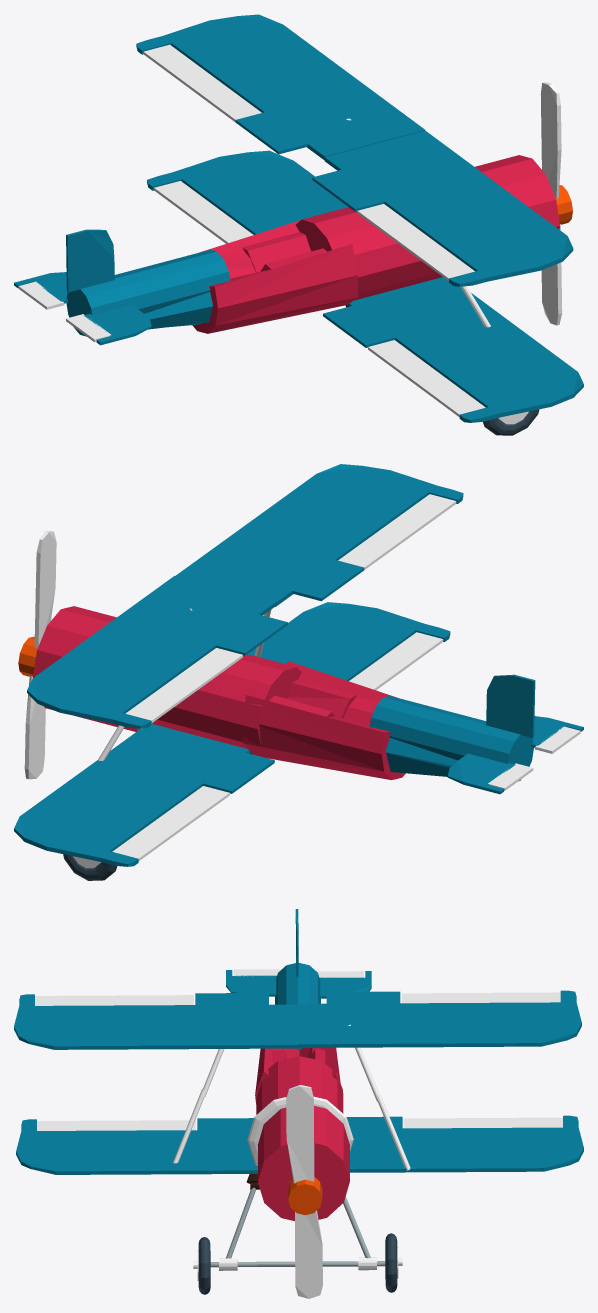
The picture shows the model from 3 angles, top to bottom: view 1: azimuth 30°, elevation 25°; view 2: azimuth 150°, elevation 25°; view 3: azimuth 270°, elevation 25°; orthographic projection. The views are drawn at different scales.
Parts seen in each view (by area): view 1: group15226713; view 2: group15226713; view 3: group15226713.
Boxes of the visible parts, x1,y1,x2,y2 form: group15226713: (14,14,583,435); group15226713: (14,464,583,880); group15226713: (14,909,583,1298).
Bounding box in the file's own units: 3.85 × 2.07 × 4.34.
